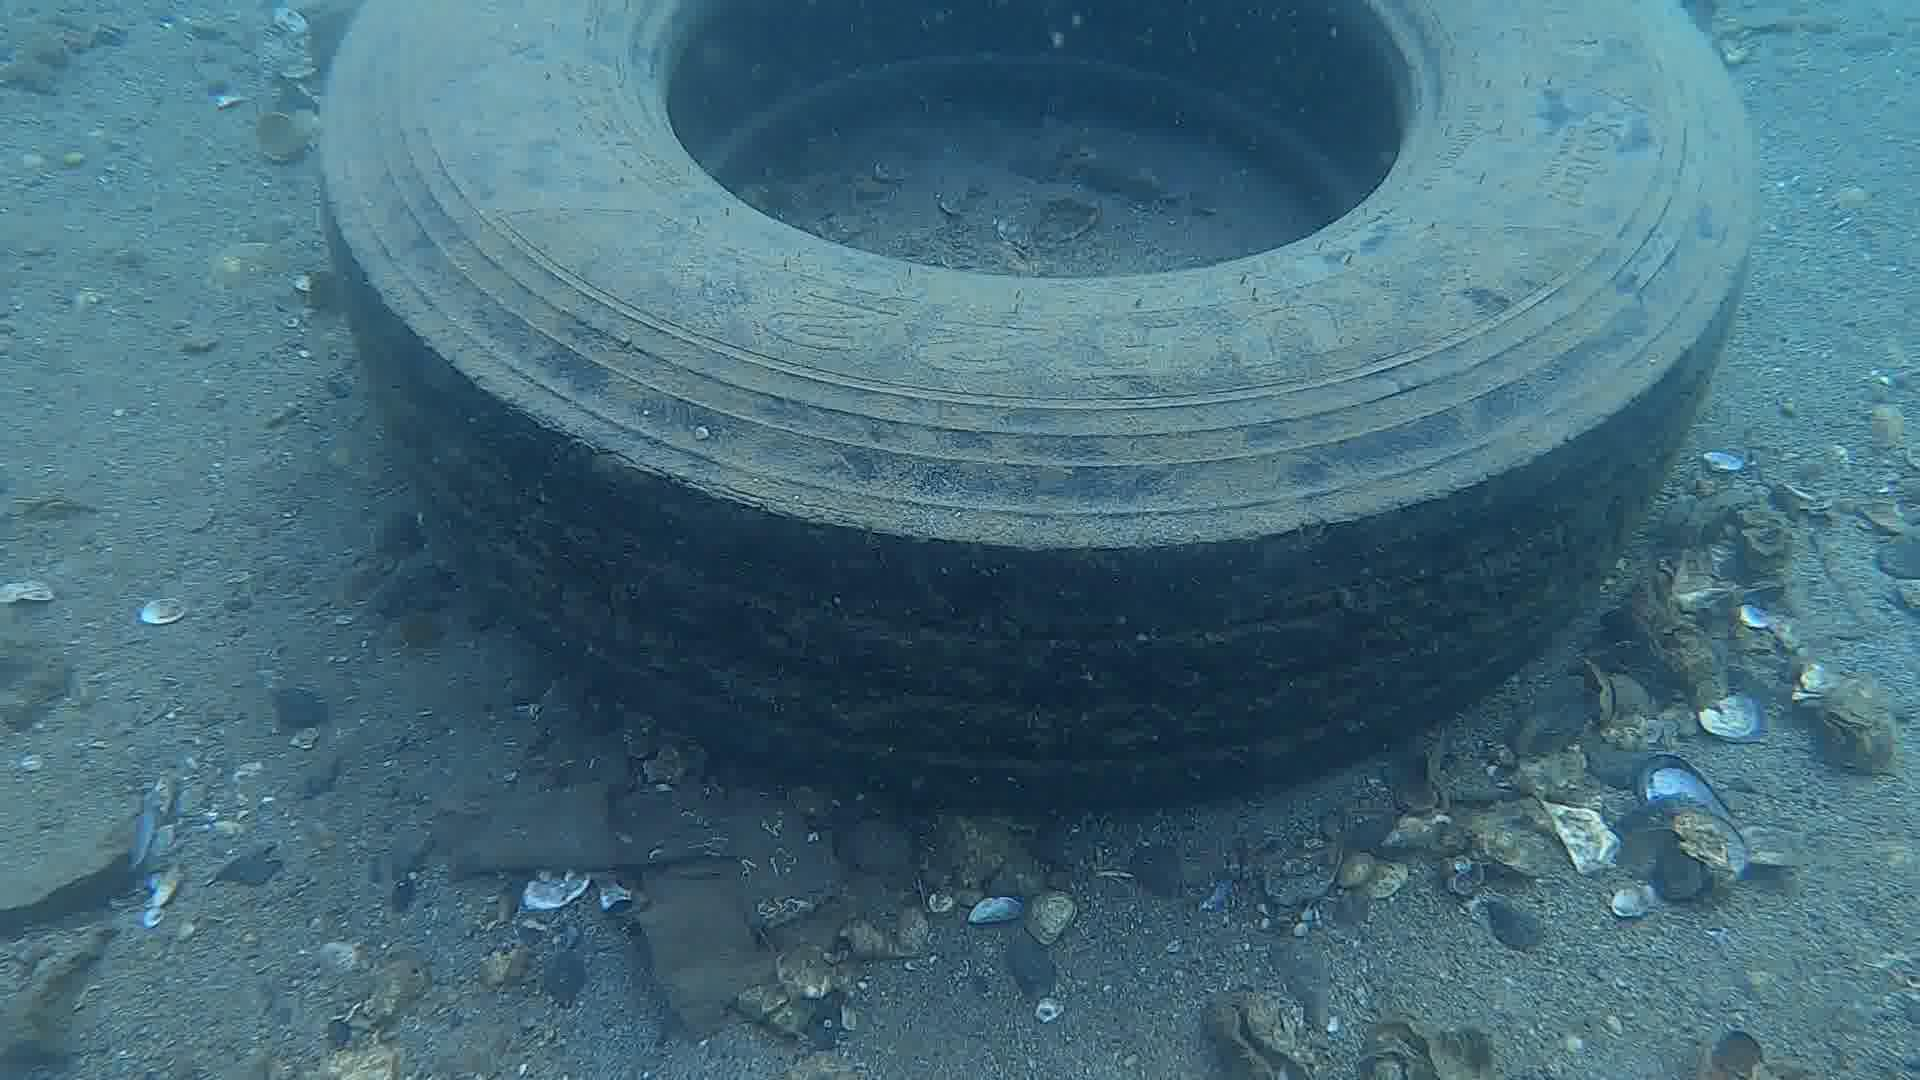tire: (314, 0, 1760, 811)
